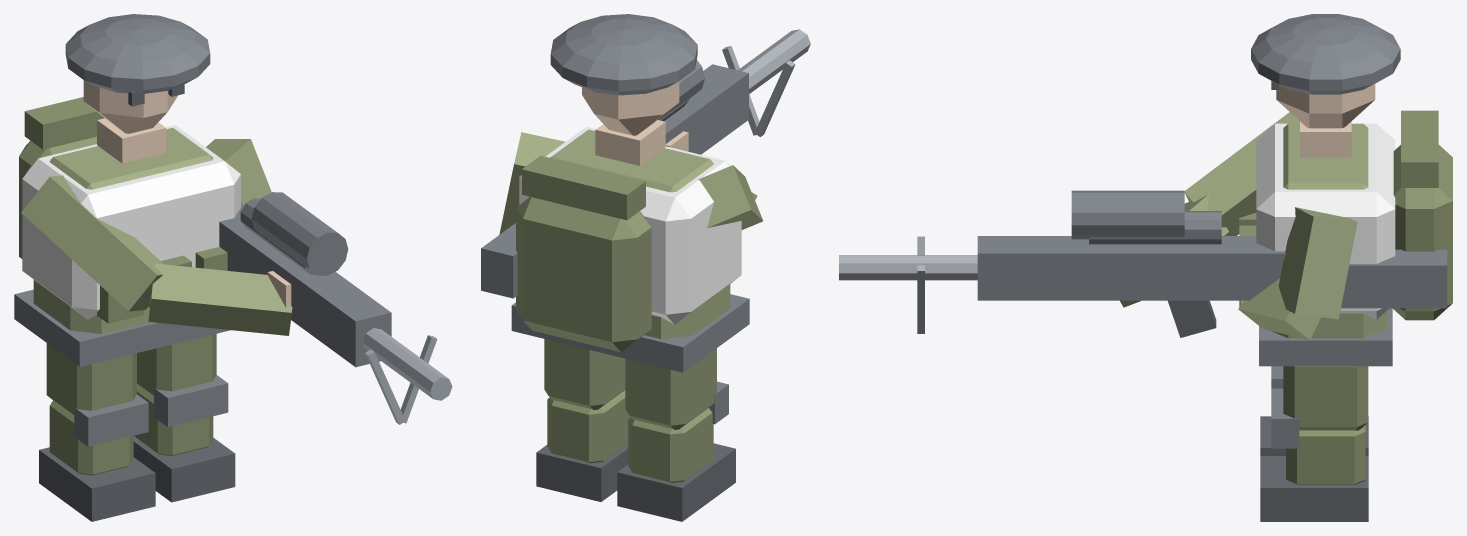
File: hunter.glb
3 renders of one model, left to right at view 1: azimuth 30°, elevation 25°; view 2: azimuth 150°, elevation 25°; view 3: azimuth 270°, elevation 25°, orthographic. The views are drawn at different scales.
Parts seen in each view (by area): view 1: main, shinl, shinr, legl, legr; view 2: main, shinl, shinr, legl, legr; view 3: main, shinr, legr, shinl.
Boxes of the visible parts, <box> form: main: <box>14,14,452,424</box>; shinl: <box>39,394,155,521</box>; shinr: <box>133,375,235,502</box>; legl: <box>46,343,136,415</box>; legr: <box>137,334,216,395</box>; main: <box>481,14,810,372</box>; shinl: <box>617,381,735,521</box>; shinr: <box>536,390,630,501</box>; legl: <box>625,348,716,429</box>; legr: <box>544,339,625,409</box>; main: <box>839,14,1452,366</box>; shinr: <box>1260,388,1368,521</box>; legr: <box>1283,366,1368,430</box>; shinl: <box>1260,366,1368,455</box>.
Bounding box in the file's own units: 0.3161 × 0.5396 × 0.6522.
